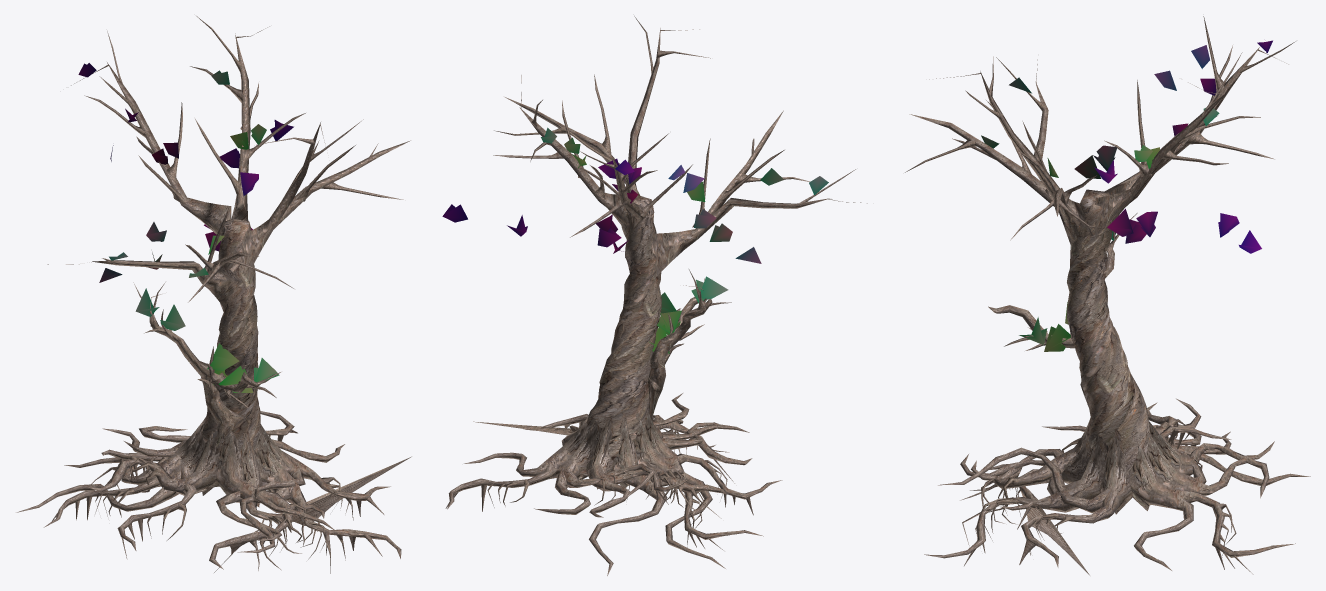
The model's file is tree_deaD_lowpoly_big_1.fbx.
3 views of the same model, side by side, from view 1: azimuth 30°, elevation 25°; view 2: azimuth 150°, elevation 25°; view 3: azimuth 270°, elevation 25° (orthographic). The views are drawn at different scales.
Parts seen in each view (by area): view 1: bark04_0, branch06_1; view 2: bark04_0, branch06_1; view 3: bark04_0, branch06_1.
Part boxes in pixels (x1,y1,x2,y2): bark04_0: (16, 16, 411, 573); branch06_1: (78, 63, 293, 392); bark04_0: (445, 16, 867, 575); branch06_1: (442, 127, 828, 353); bark04_0: (905, 16, 1310, 575); branch06_1: (981, 40, 1272, 351).
Size of the model in its own units: 2333 by 2666 by 1974.
1 material, 1 textured.
